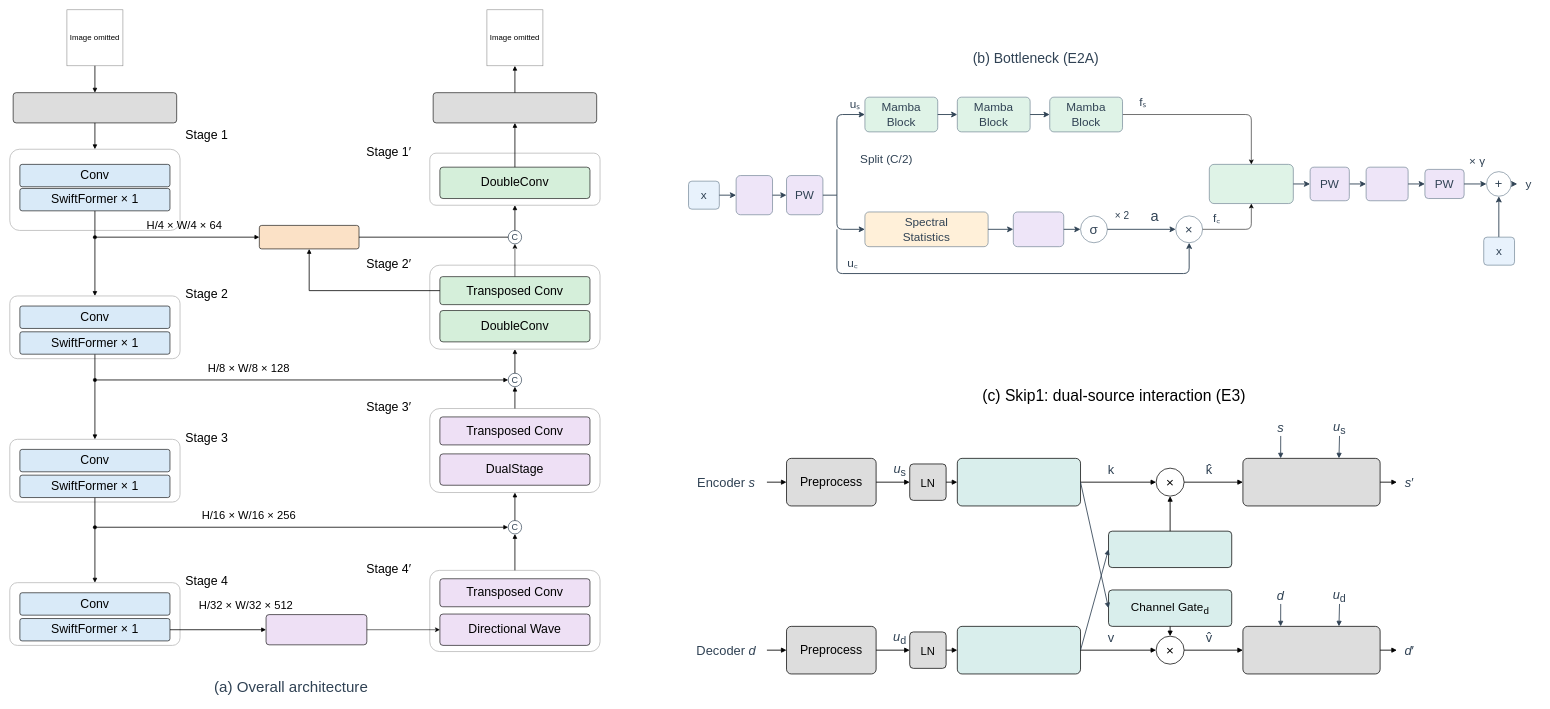
Some shapes in this 1550 by 709 pixel diagram are drawn without their labels. The centre of each missing label's shape, as x and y in pixels:
Adaptive Fusion: pixel 1251 184
Bottleneck: E2A: pixel 316 629
Channel Gate s: pixel 1170 549
DW: pixel 754 195
FFN: pixel 1387 184
Generator G d: pixel 1019 650
Generator G s: pixel 1019 482
MLP: pixel 1038 229
Patch Embedding: pixel 95 107
Segmentation Head: pixel 515 107
Side Refinement d: pixel 1311 650
Side Refinement s: pixel 1311 482
Skip1 (E3): pixel 309 237
